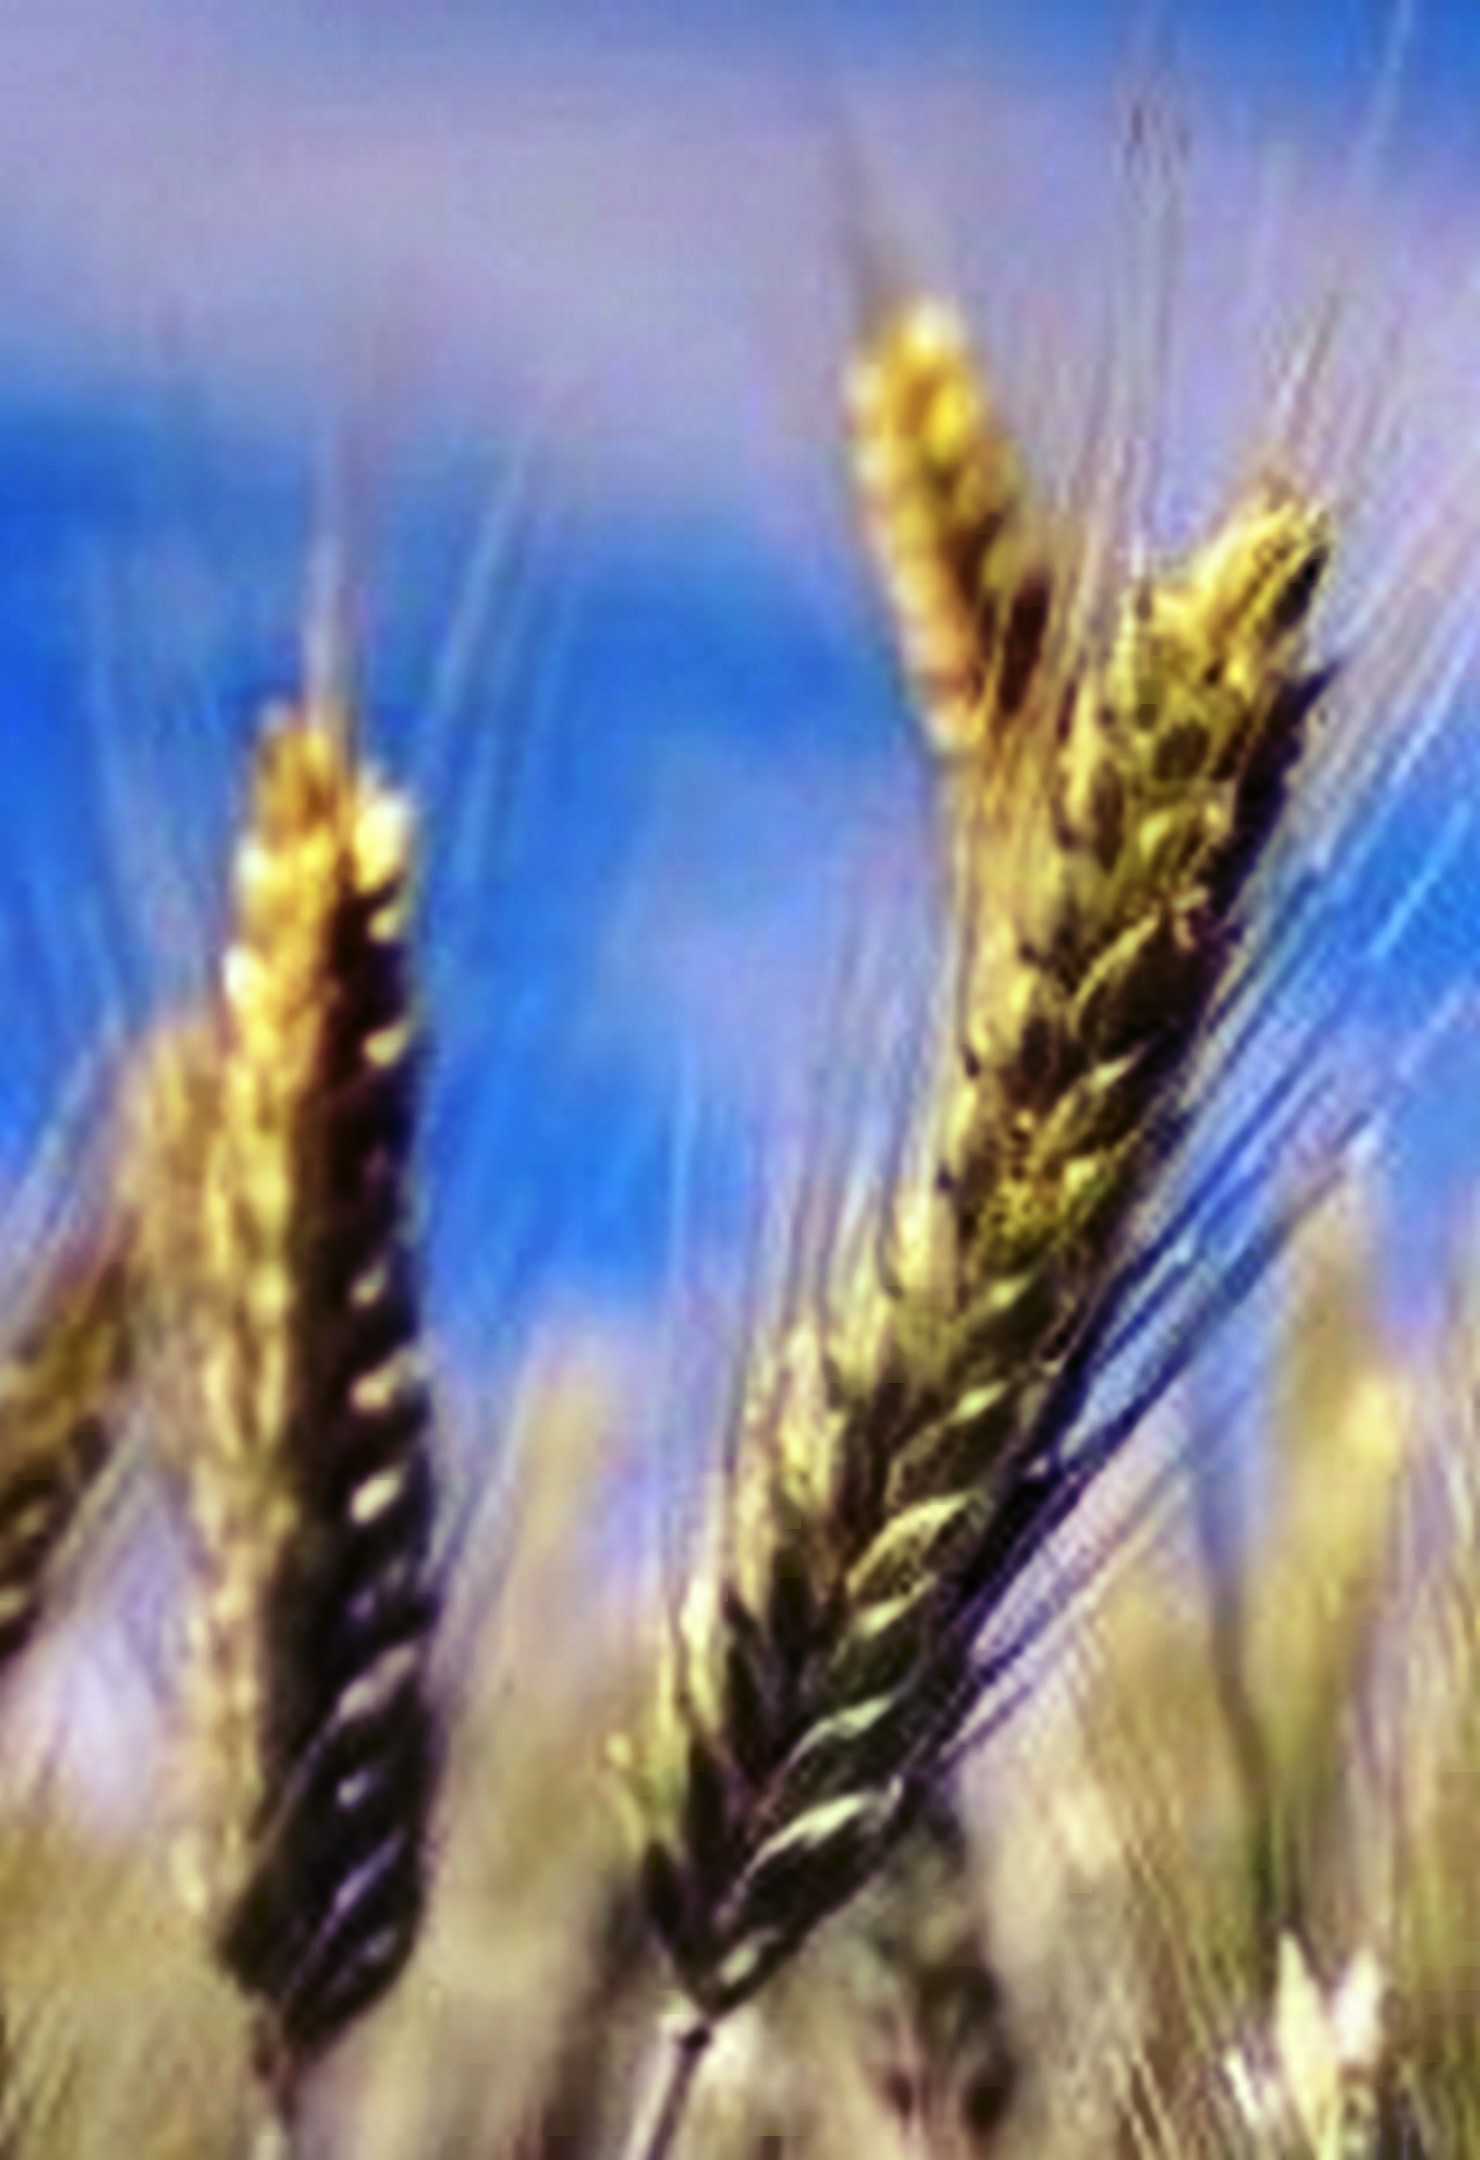Healthy Wheat: (633, 506, 1377, 2001)
